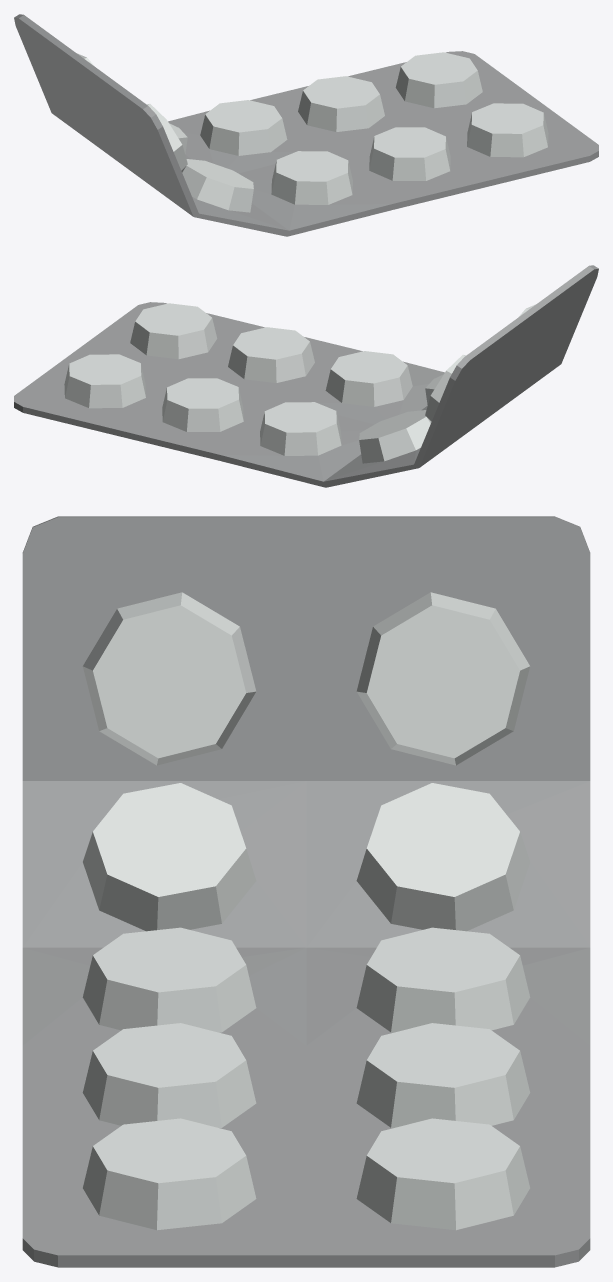
The model's file is PillBlister1.fbx.
The picture shows the model from 3 angles, top to bottom: view 1: azimuth 30°, elevation 25°; view 2: azimuth 150°, elevation 25°; view 3: azimuth 270°, elevation 25°; orthographic projection. The views are drawn at different scales.
Visible parts, largest first — view 1: Cube; view 2: Cube; view 3: Cube.
Part boxes in pixels (left/top/right/bottom): Cube: left=14, top=14, right=598, bottom=236; Cube: left=14, top=265, right=598, bottom=487; Cube: left=22, top=516, right=590, bottom=1267.
Size of the model in its own units: 373 by 122 by 201.
